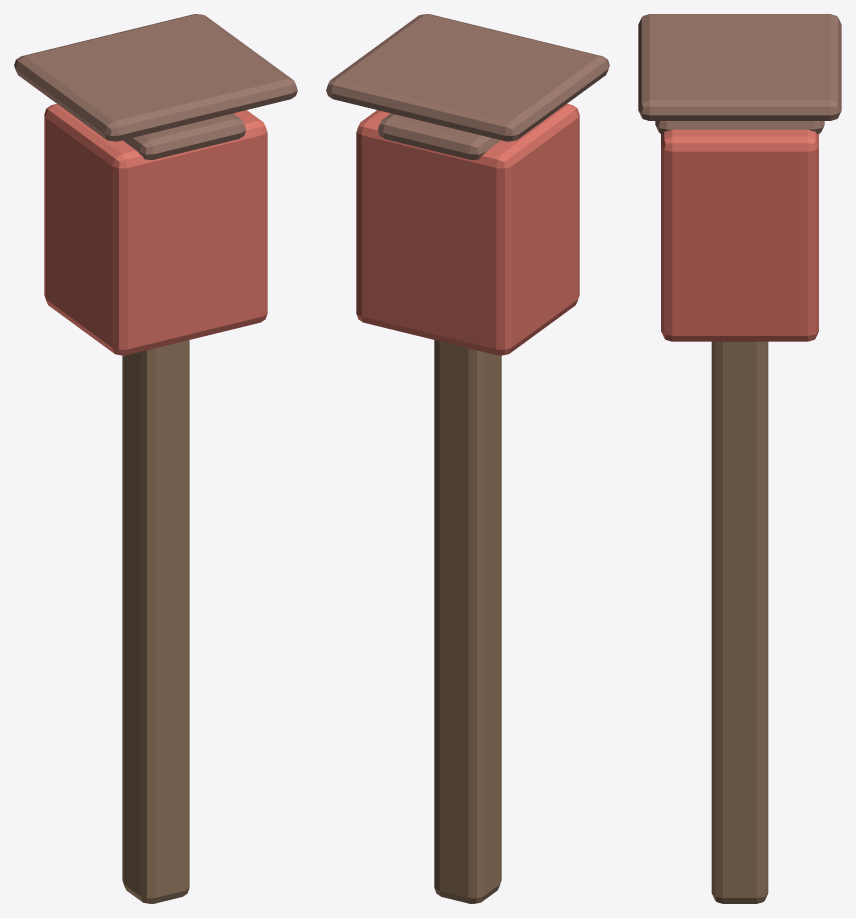
Rendered from mailbox.glb.
3 renders of one model, left to right at view 1: azimuth 30°, elevation 25°; view 2: azimuth 150°, elevation 25°; view 3: azimuth 270°, elevation 25°, orthographic.
Visible parts, largest first — view 1: Mailbox; view 2: Mailbox; view 3: Mailbox.
Part boxes in pixels (<box>): Mailbox: <box>14,14,297,903</box>; Mailbox: <box>326,14,609,903</box>; Mailbox: <box>638,14,841,903</box>.
Size of the model in its own units: 0.4 by 1.64 by 0.36.
